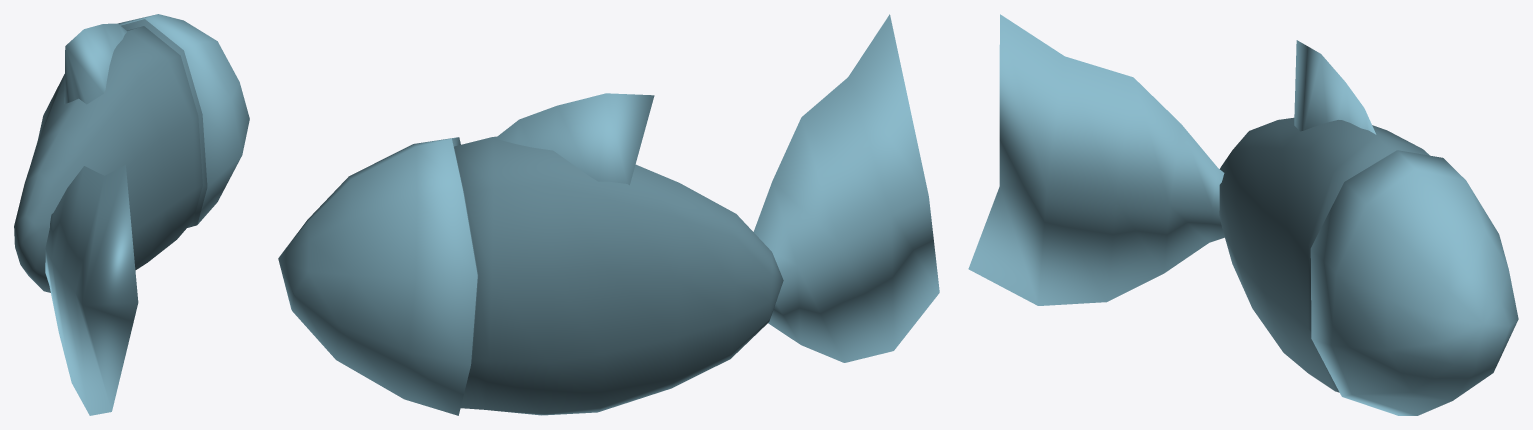
File: Fish.fbx
The picture shows the model from 3 angles, left to right: view 1: azimuth 30°, elevation 25°; view 2: azimuth 150°, elevation 25°; view 3: azimuth 270°, elevation 25°; orthographic projection. The views are drawn at different scales.
Visible parts, largest first — view 1: rig_01_n_pond_fish:polySurface2.001; view 2: rig_01_n_pond_fish:polySurface2.001; view 3: rig_01_n_pond_fish:polySurface2.001.
Boxes of the visible parts, <box> form: rig_01_n_pond_fish:polySurface2.001: <box>14,14,249,415</box>; rig_01_n_pond_fish:polySurface2.001: <box>278,14,939,415</box>; rig_01_n_pond_fish:polySurface2.001: <box>968,14,1518,415</box>.
Bounding box in the file's own units: 1.4 × 1.68 × 1.07.
